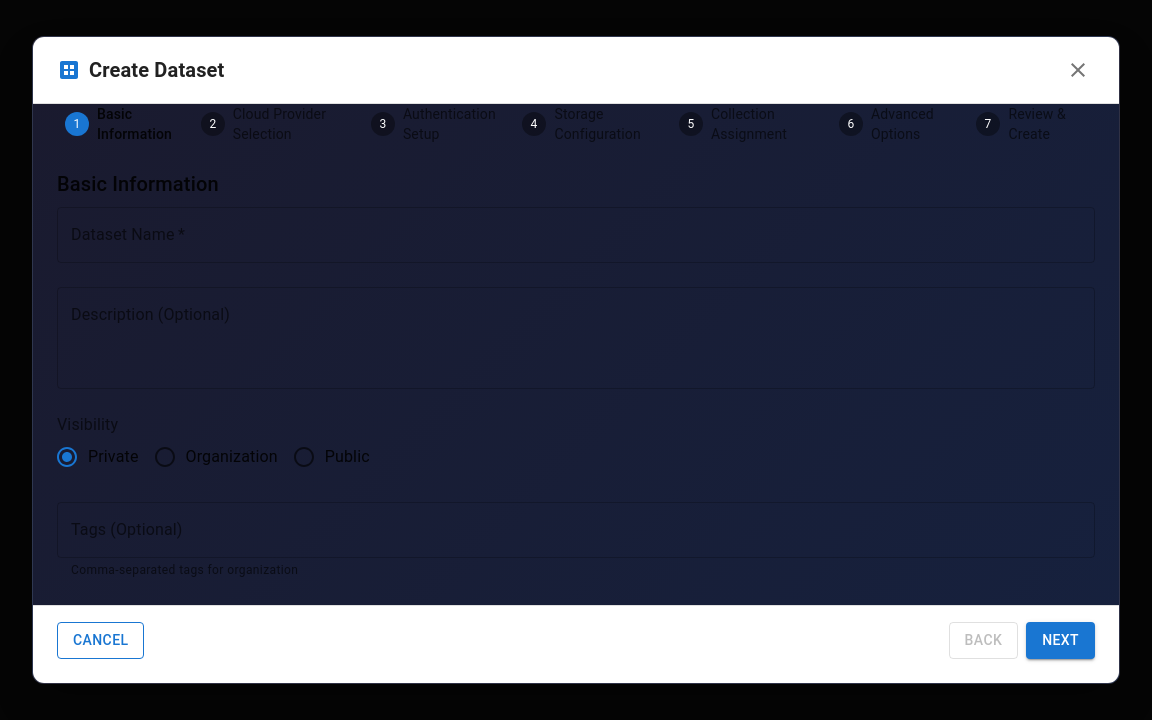
Scenario: DatasetCreationWizard › Step 1: Basic Information › validation prevents next step without required fields
Click the button "Next". click: click(1061, 640)
box: left=1026, top=622, right=1095, bottom=659
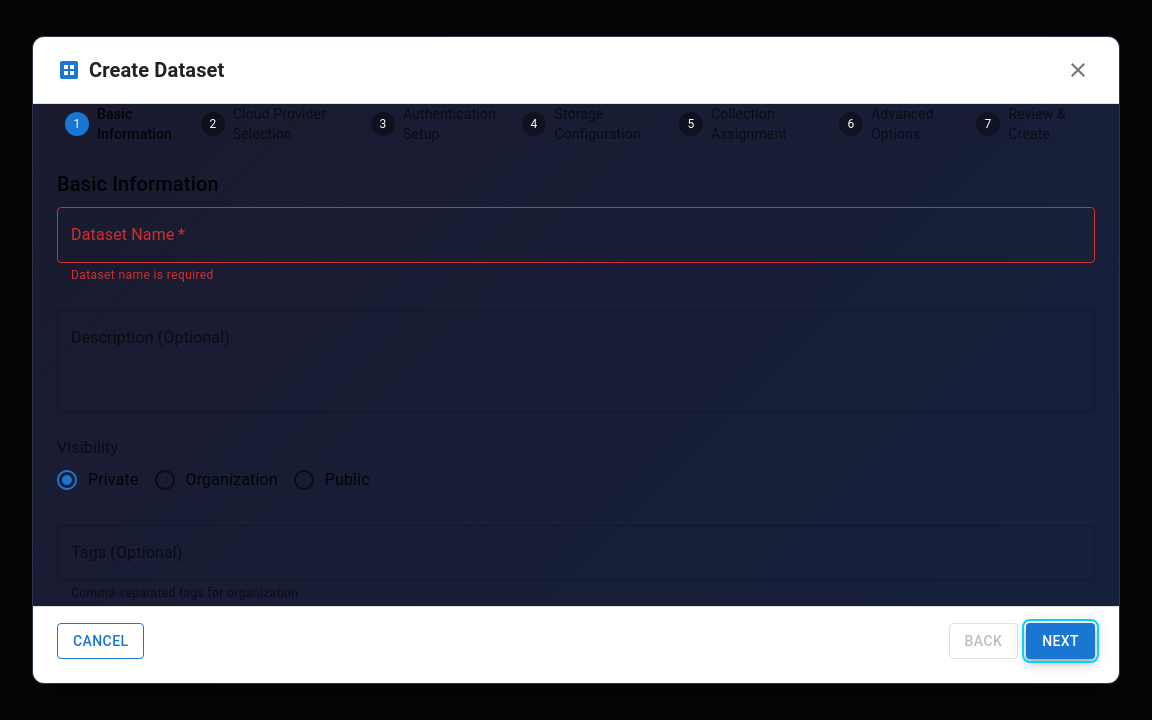
Expected: the heading "Basic Information" is shown, left=57, top=172, right=219, bottom=196
Expected: the text "Dataset name is required" is shown, left=71, top=268, right=214, bottom=282
